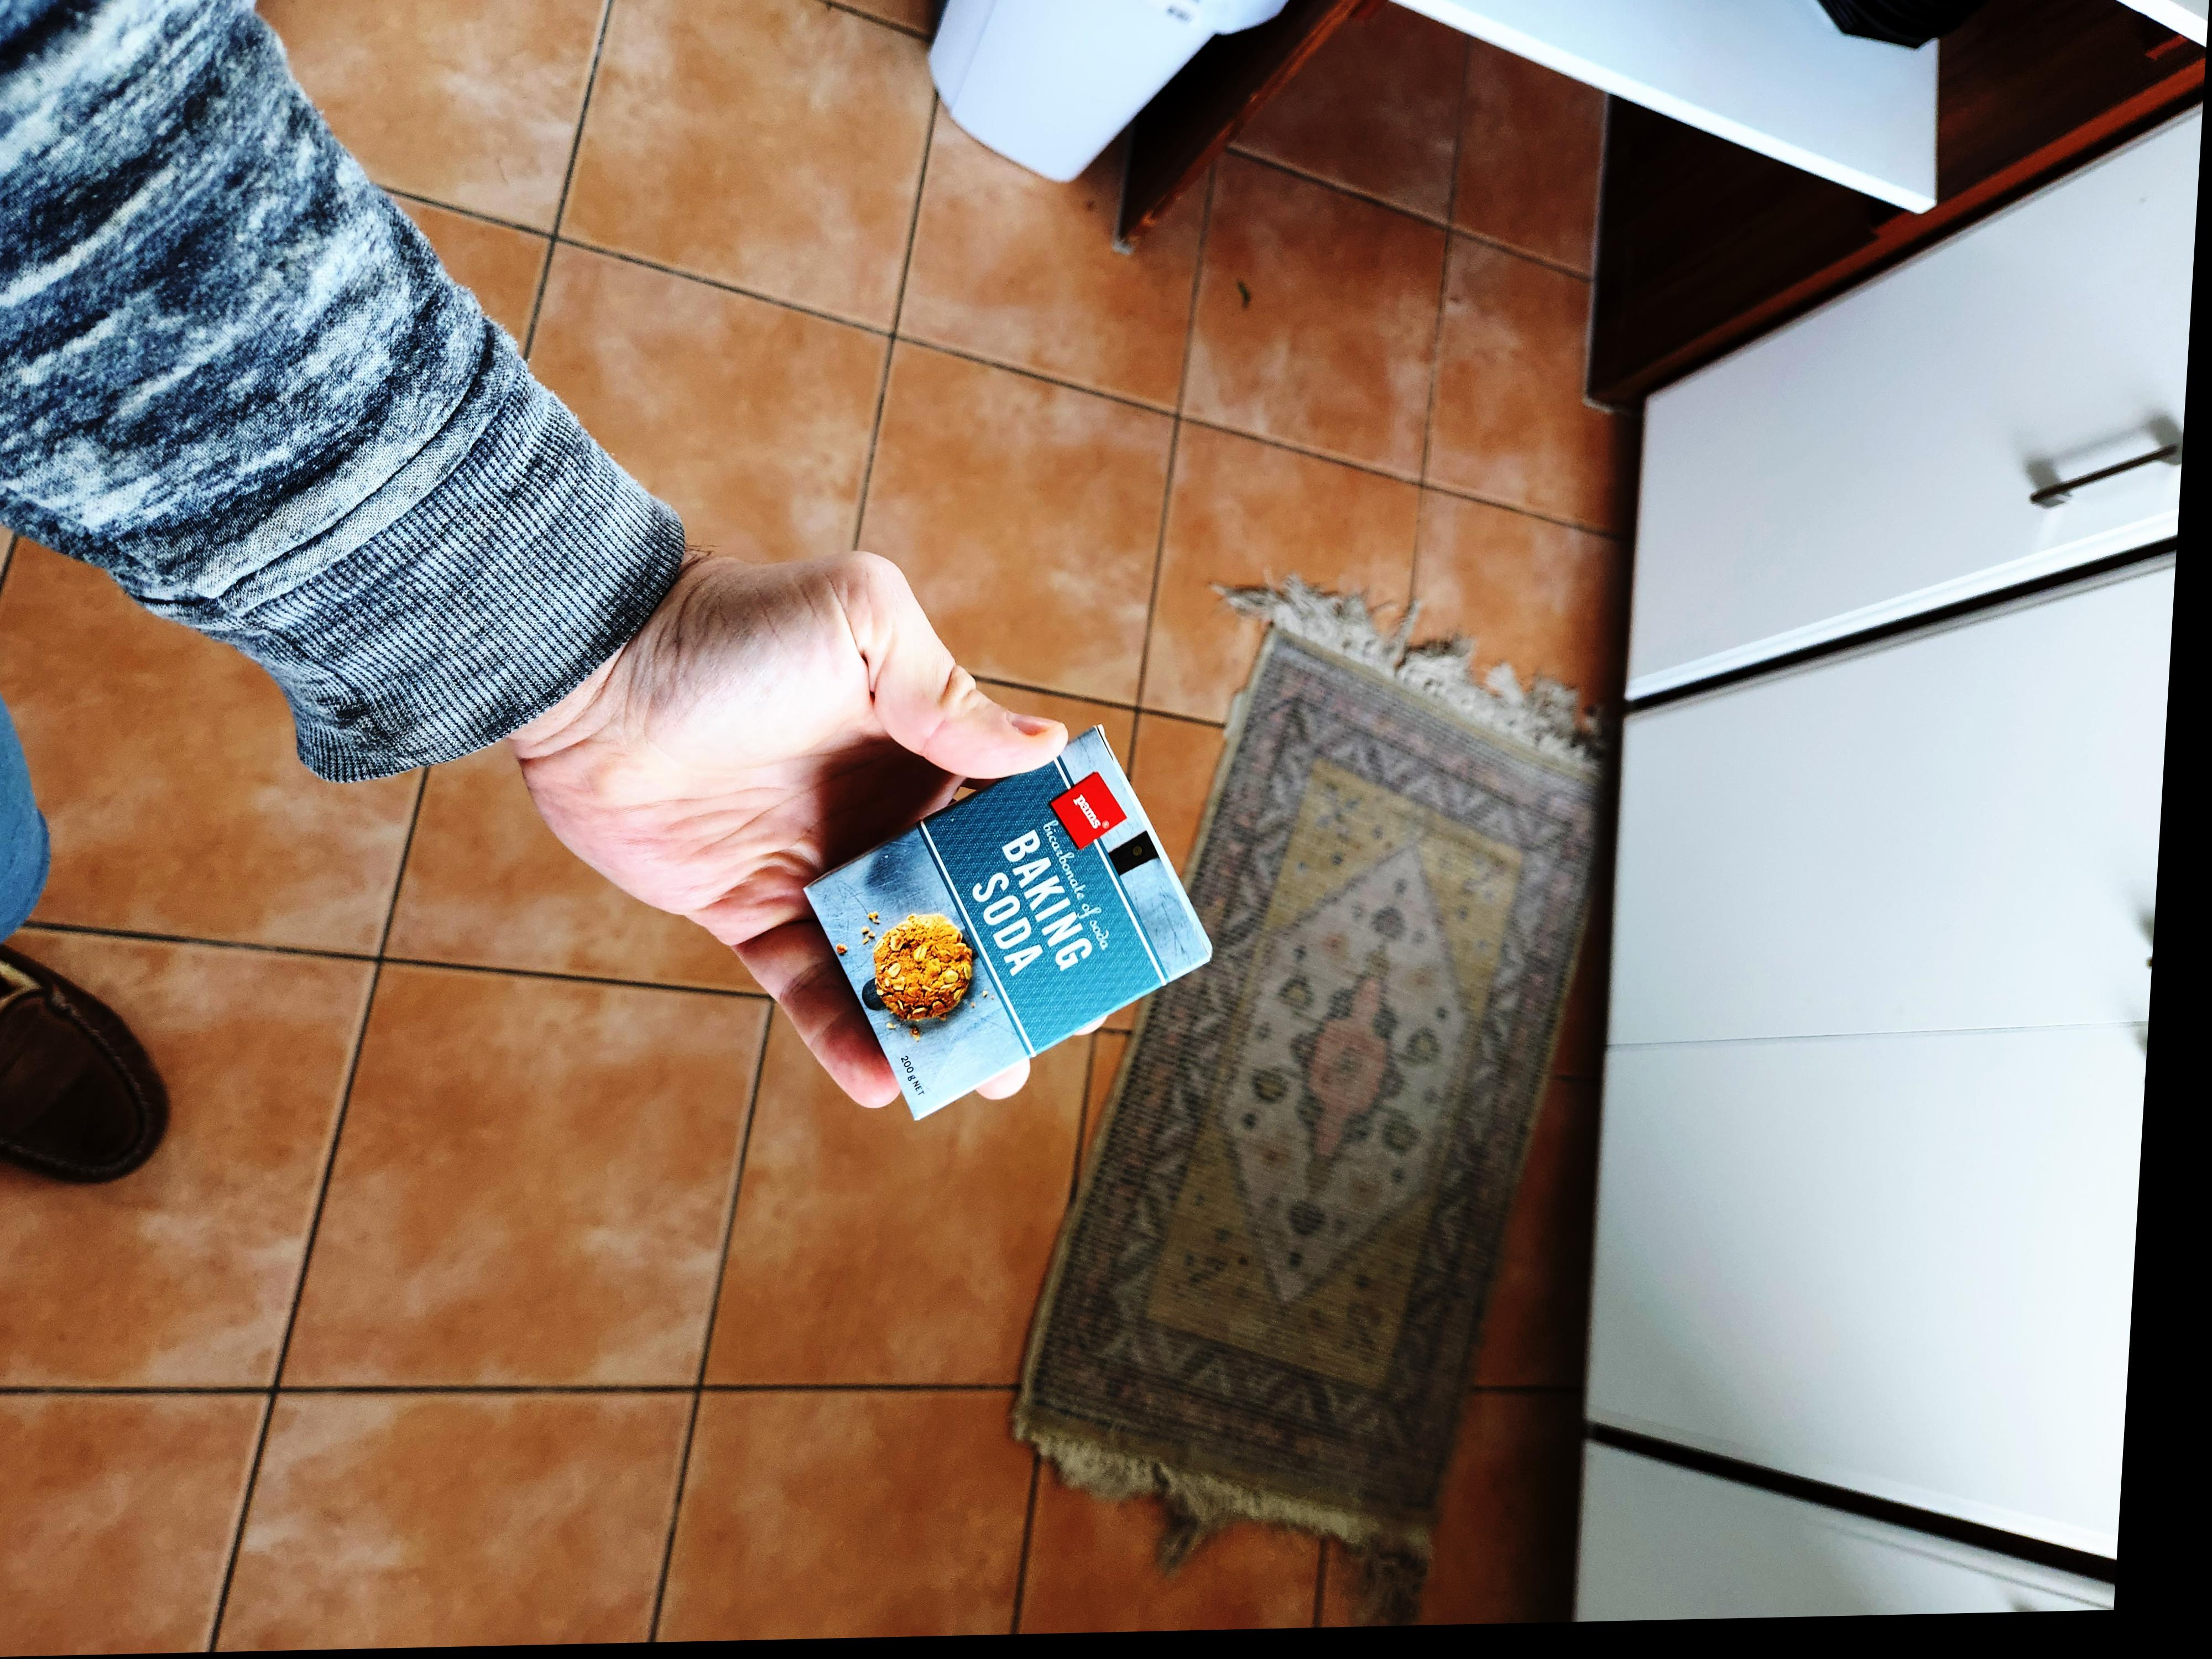baking soda: (799, 725, 1247, 1126)
